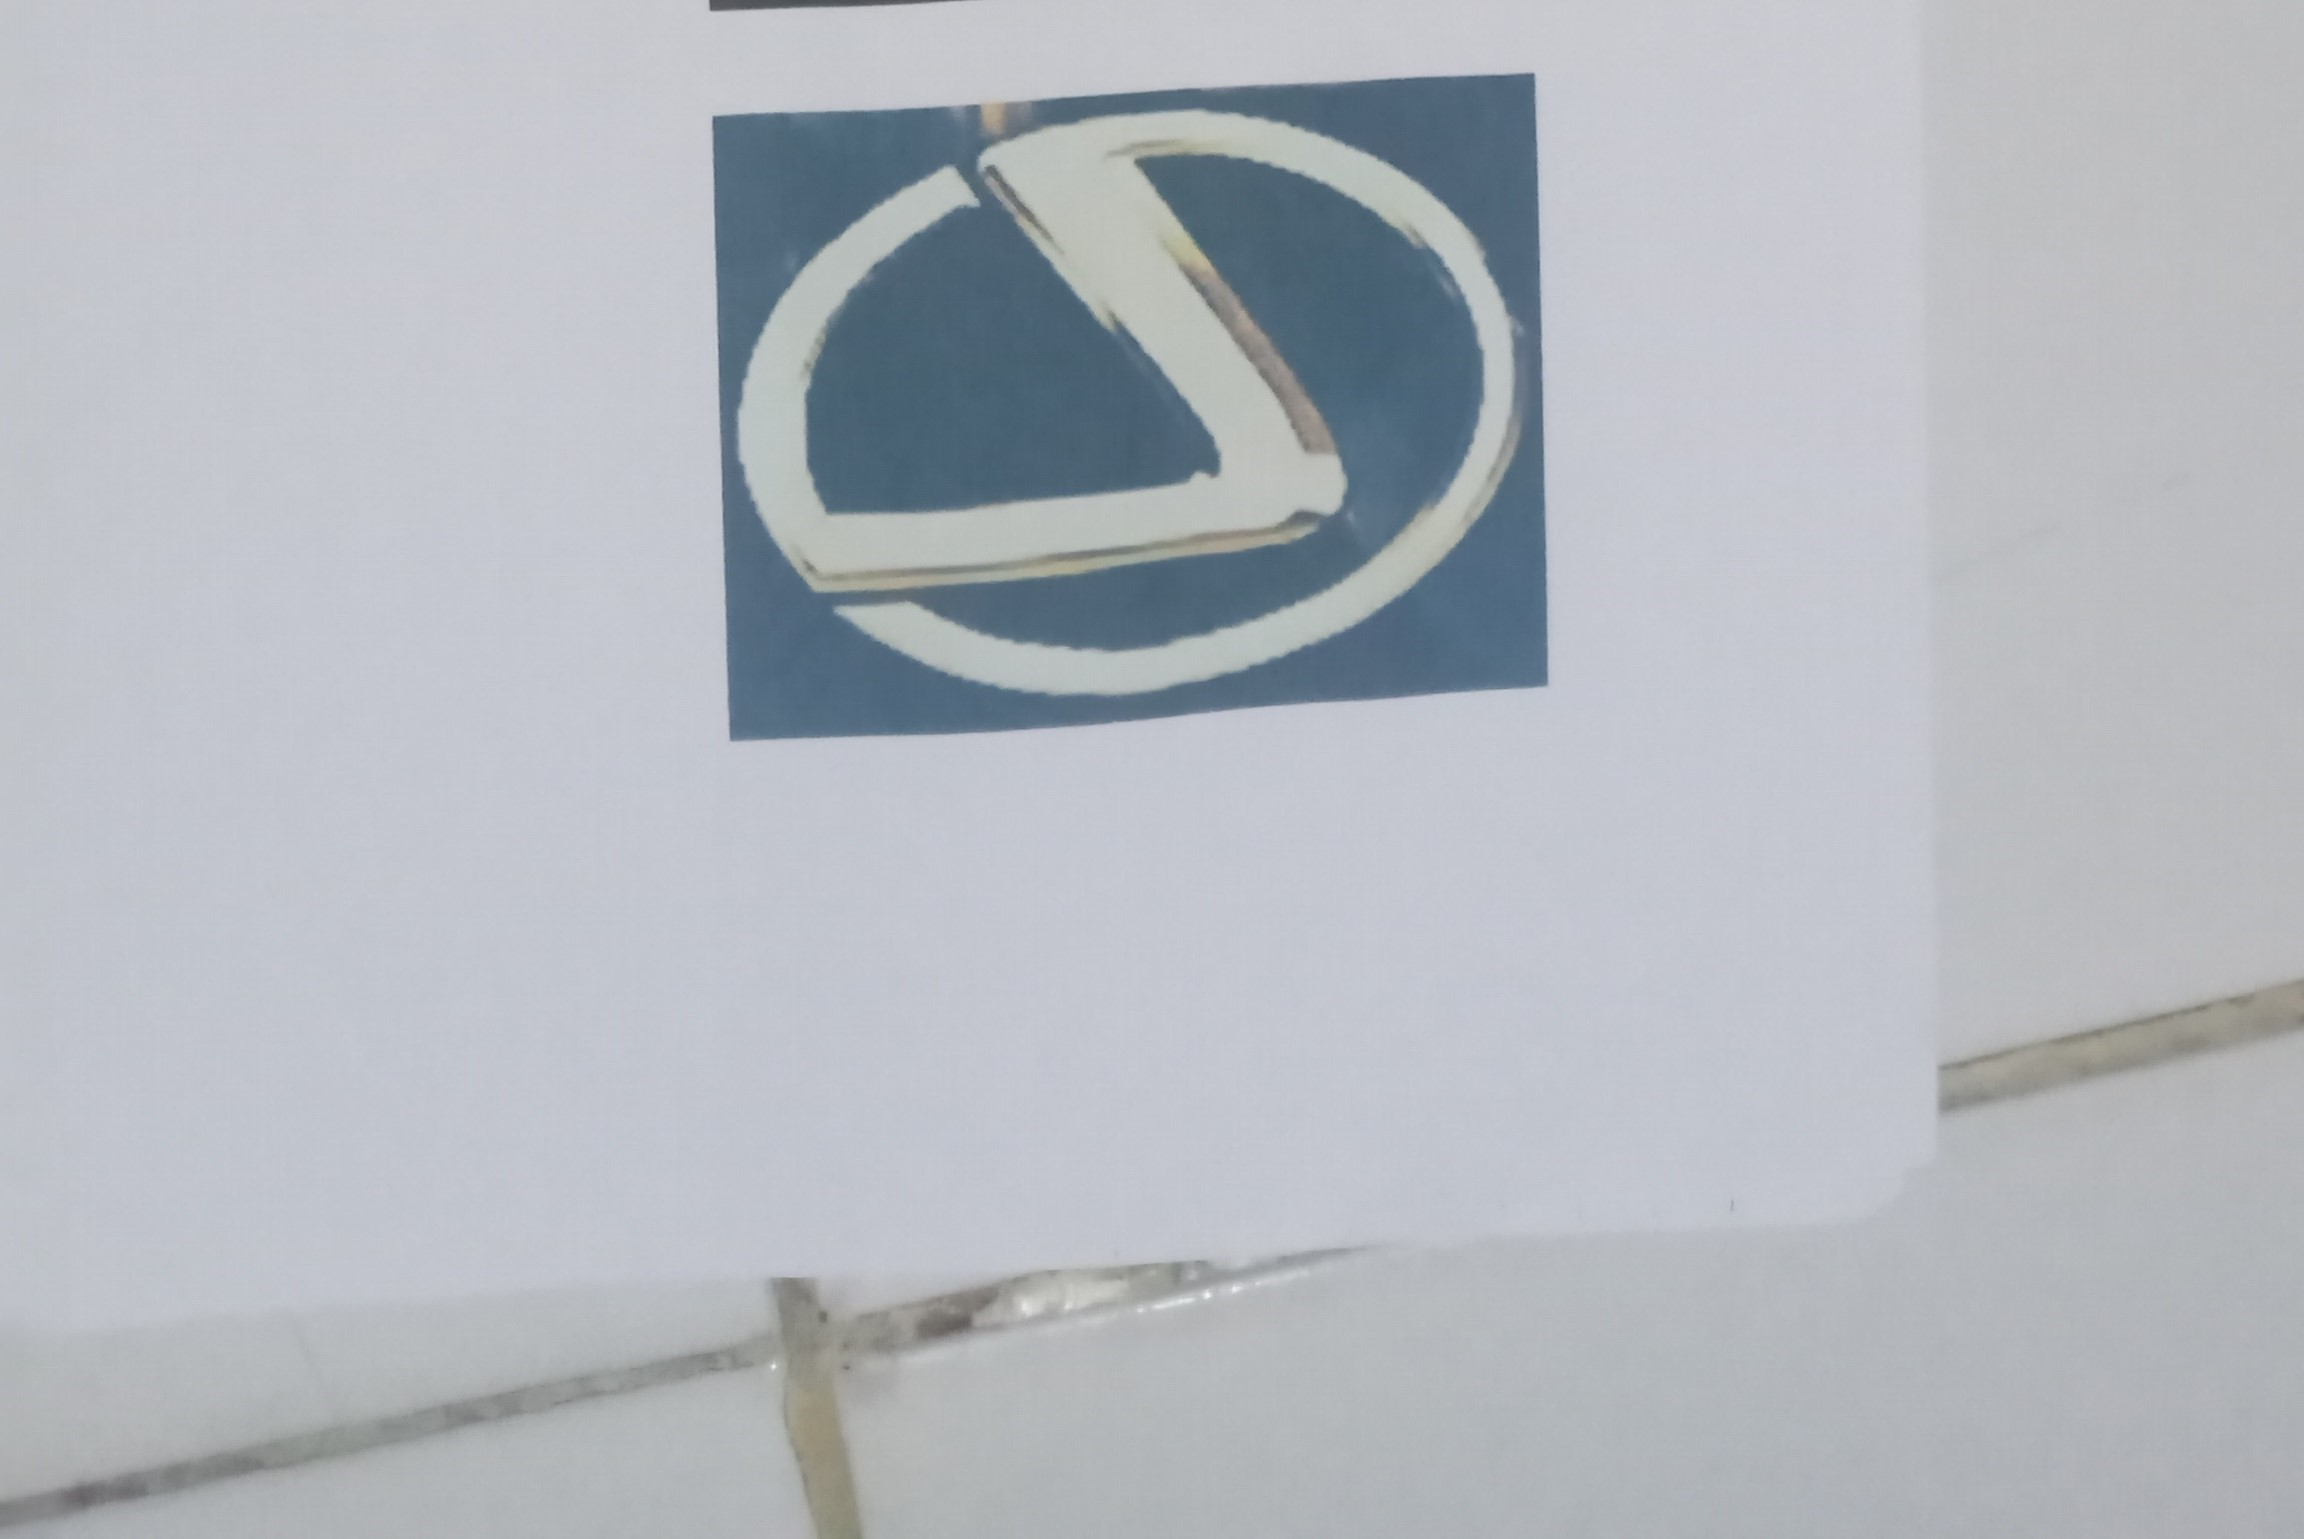Lexus: (712, 100, 1518, 709)
